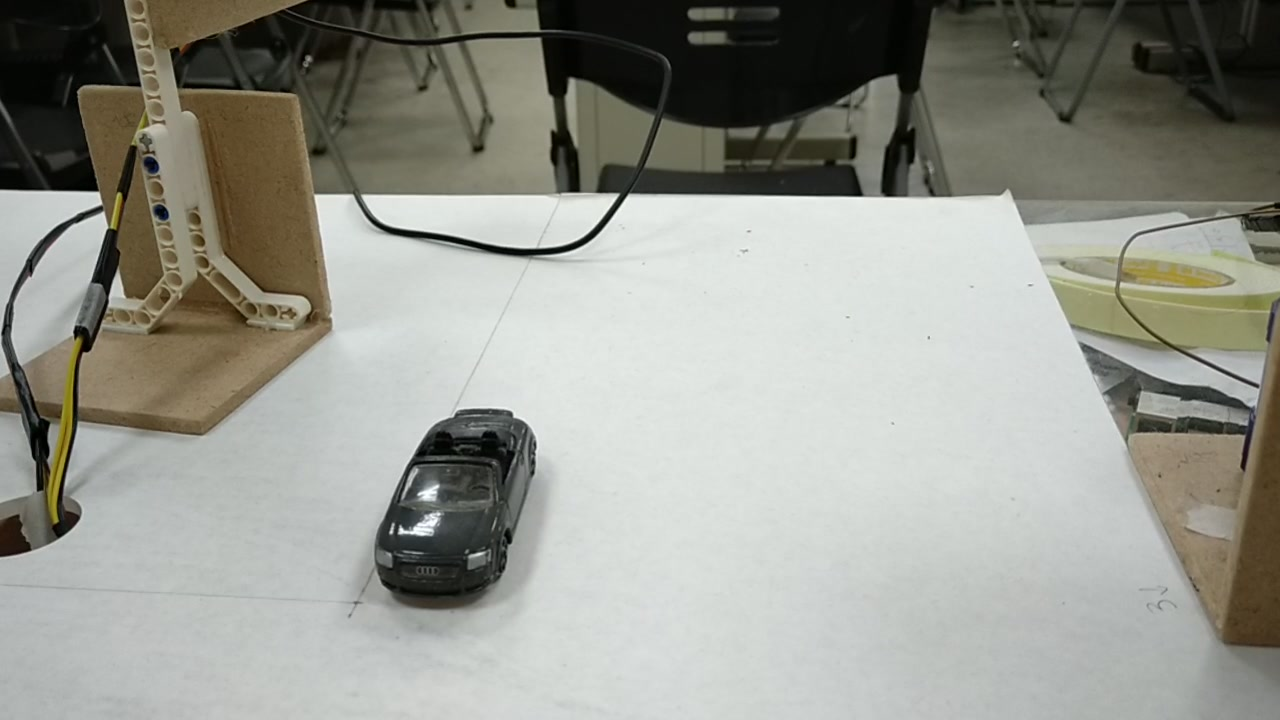car: (373, 414, 530, 599)
